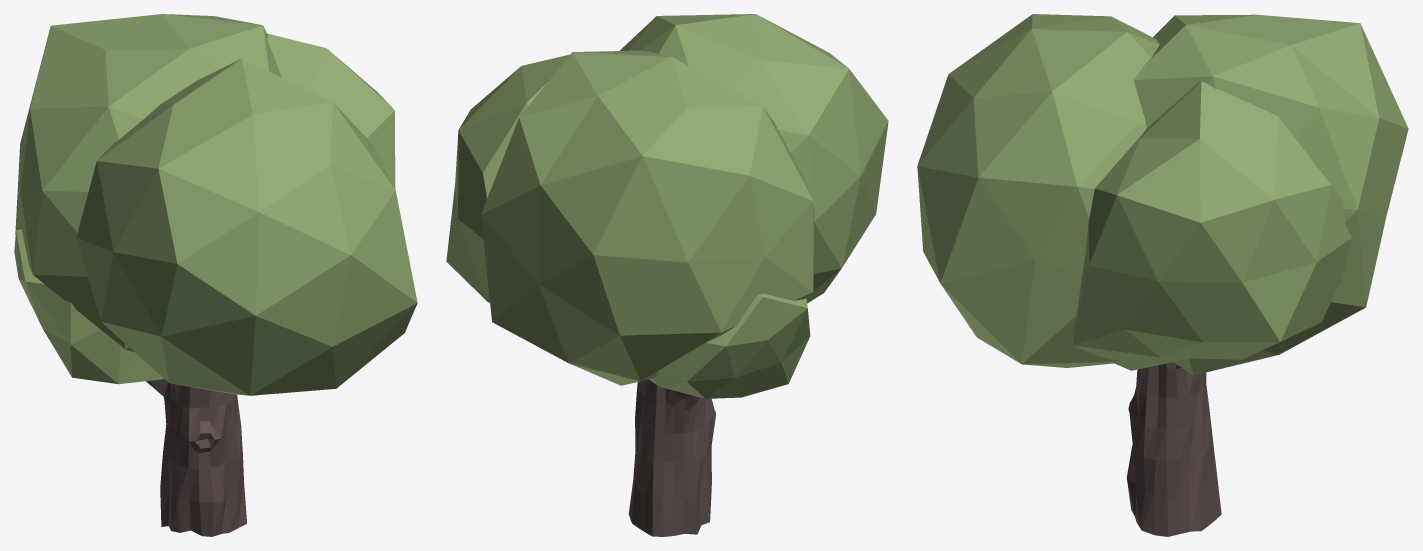
Rendered from tree.glb.
3 renders of one model, left to right at view 1: azimuth 30°, elevation 25°; view 2: azimuth 150°, elevation 25°; view 3: azimuth 270°, elevation 25°, orthographic. The views are drawn at different scales.
Size of the model in its own units: 16.5 by 21.82 by 19.57.
